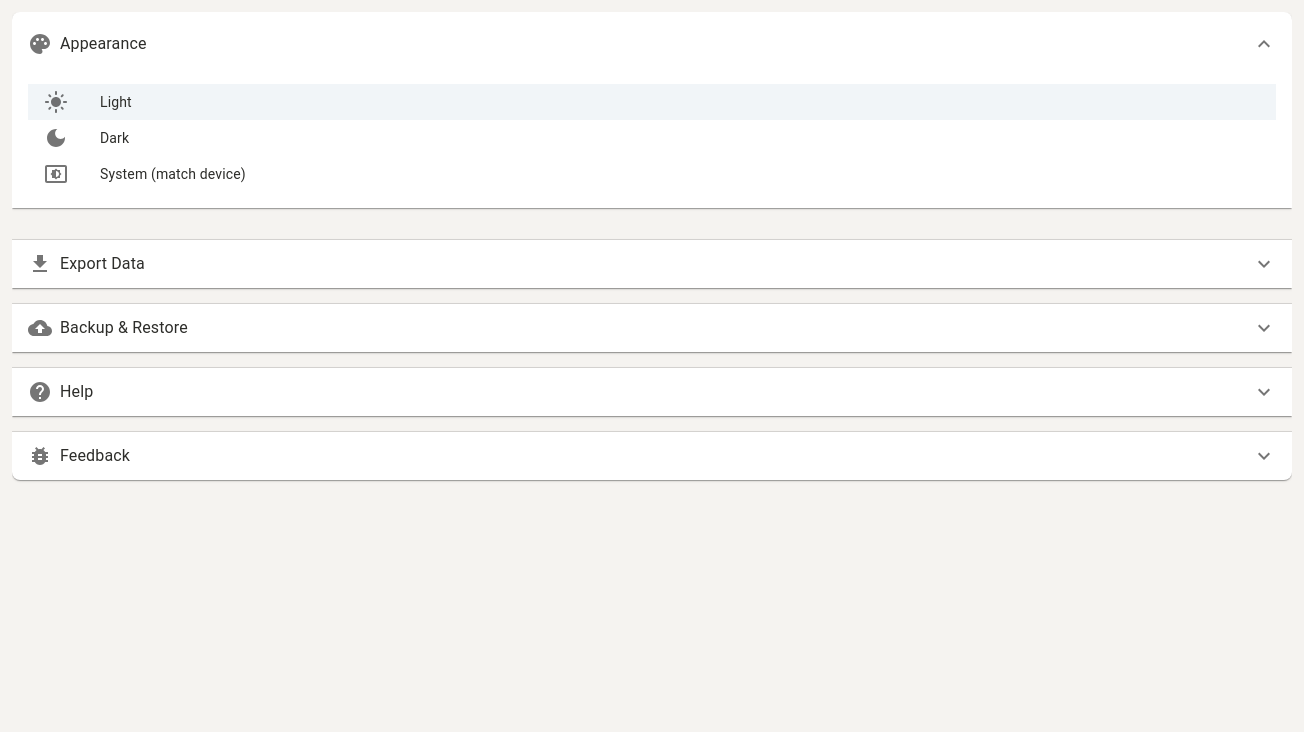
it: Settings › renders Help accordion and Features Guide link
The width and height of the screenshot is (1304, 732).
Click the button "Help" at (77, 392), box [12, 368, 1292, 416]
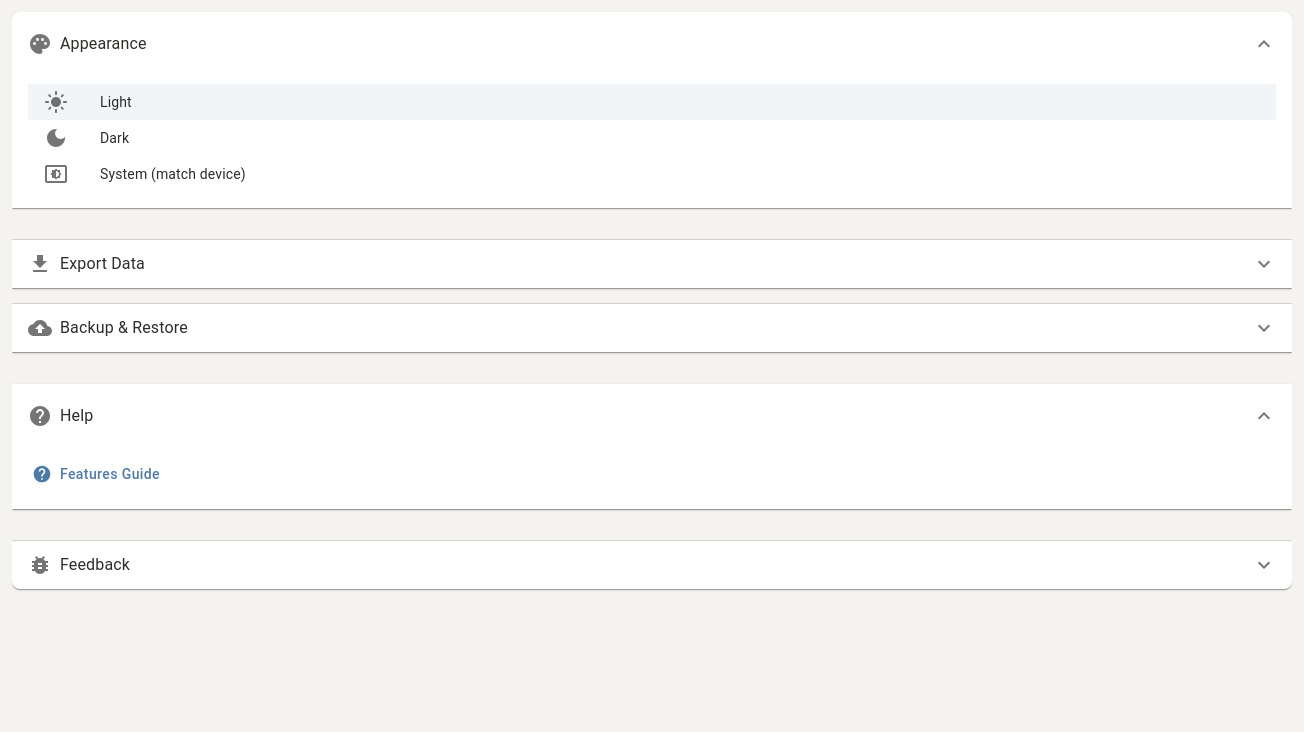
Expected: the link with test id "help-documentation-link" is shown, [32, 464, 160, 484]
